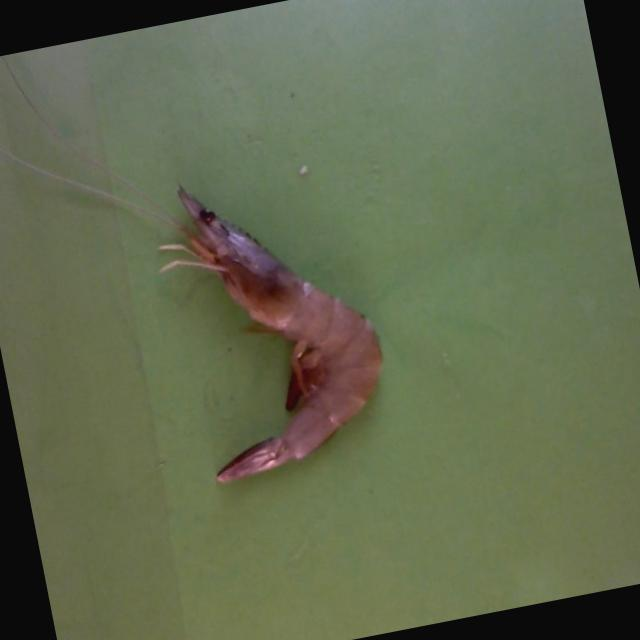shrimp: (176, 187, 381, 484)
